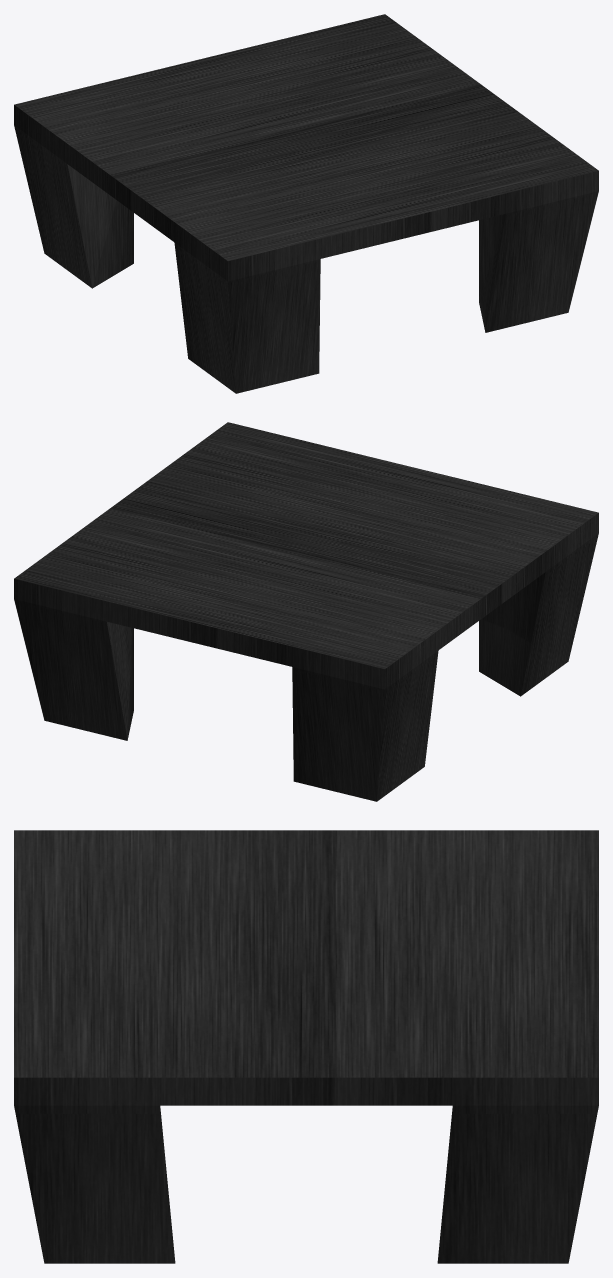
File: Lobby Table.FBX
The picture shows the model from 3 angles, top to bottom: view 1: azimuth 30°, elevation 25°; view 2: azimuth 150°, elevation 25°; view 3: azimuth 270°, elevation 25°; orthographic projection. The views are drawn at different scales.
Parts seen in each view (by area): view 1: Box004; view 2: Box004; view 3: Box004.
Part boxes in pixels (x1,y1,x2,y2): Box004: (14,14,598,393); Box004: (14,422,598,801); Box004: (14,830,598,1263).
Bounding box in the file's own units: 42.86 × 16.05 × 42.8.
